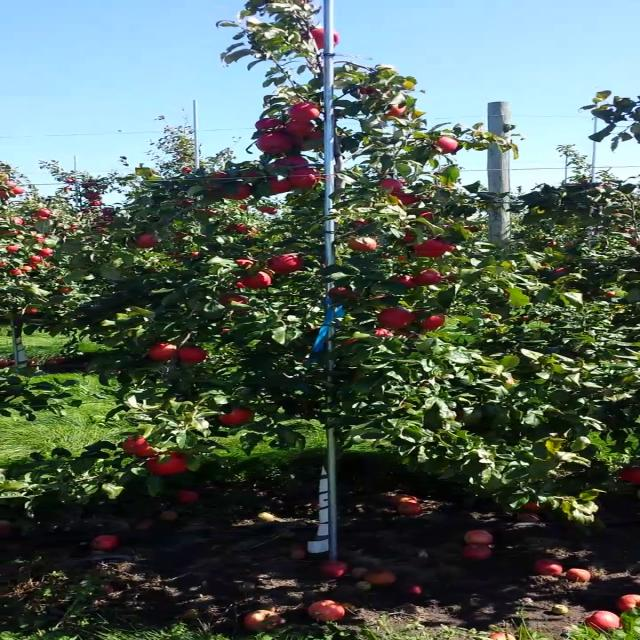apple: (147, 453, 185, 477), (258, 132, 292, 154), (379, 307, 414, 327), (414, 241, 457, 257), (218, 408, 252, 428), (290, 130, 324, 150), (124, 436, 156, 456), (288, 168, 320, 188), (311, 28, 340, 50), (268, 255, 302, 272), (290, 102, 321, 120), (412, 312, 443, 329), (148, 343, 176, 361), (224, 181, 251, 199), (412, 269, 442, 285), (434, 136, 458, 155), (243, 272, 271, 288), (178, 346, 205, 362), (284, 120, 314, 134), (347, 238, 376, 252), (328, 286, 357, 300), (280, 156, 308, 170), (378, 178, 402, 194), (270, 176, 291, 194), (388, 275, 418, 287), (619, 467, 639, 485), (138, 234, 160, 248), (393, 194, 419, 205), (221, 294, 248, 304), (256, 119, 282, 129), (386, 106, 409, 116), (353, 216, 372, 228), (359, 85, 379, 95), (338, 338, 362, 346), (374, 327, 393, 337), (233, 224, 250, 234), (402, 231, 415, 244), (236, 259, 252, 269), (525, 502, 544, 509), (421, 212, 434, 220)
